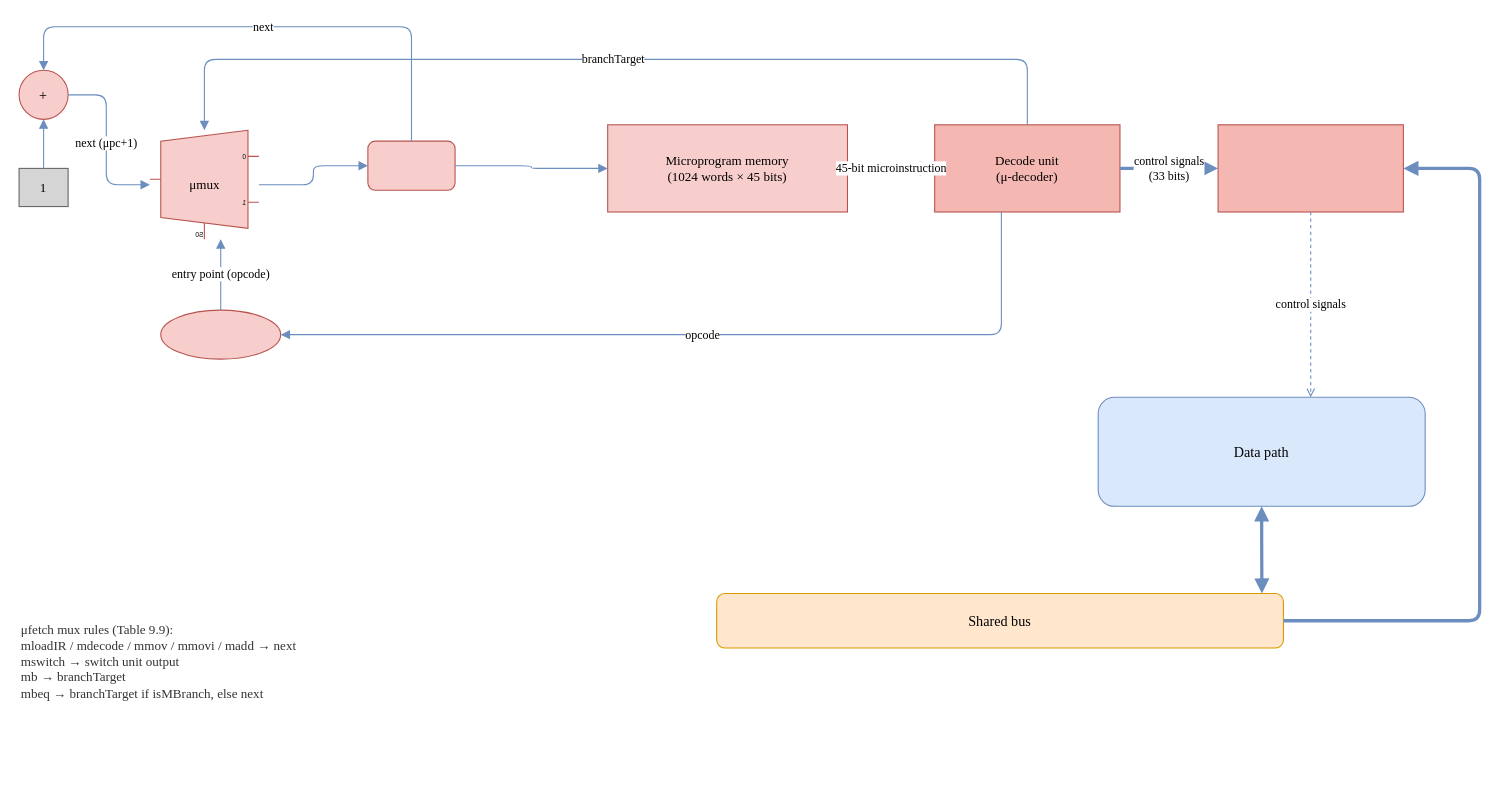
The diagram is 1509 pixels wide and 798 high, and some of its shapes have lost their labels. Each missing label, with the centre of its shape:
"Execute unit" goes at point 1310,168.
"switch" goes at point 220,334.
"μpc" goes at point 411,165.
